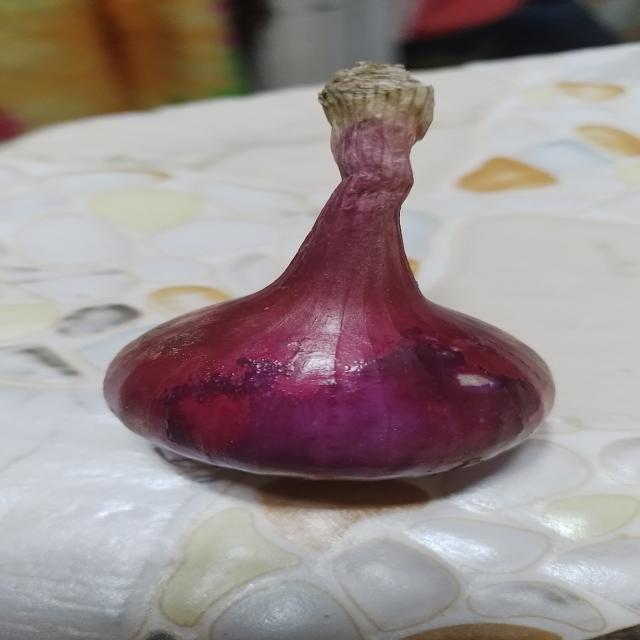Onion: (104, 63, 556, 480)
